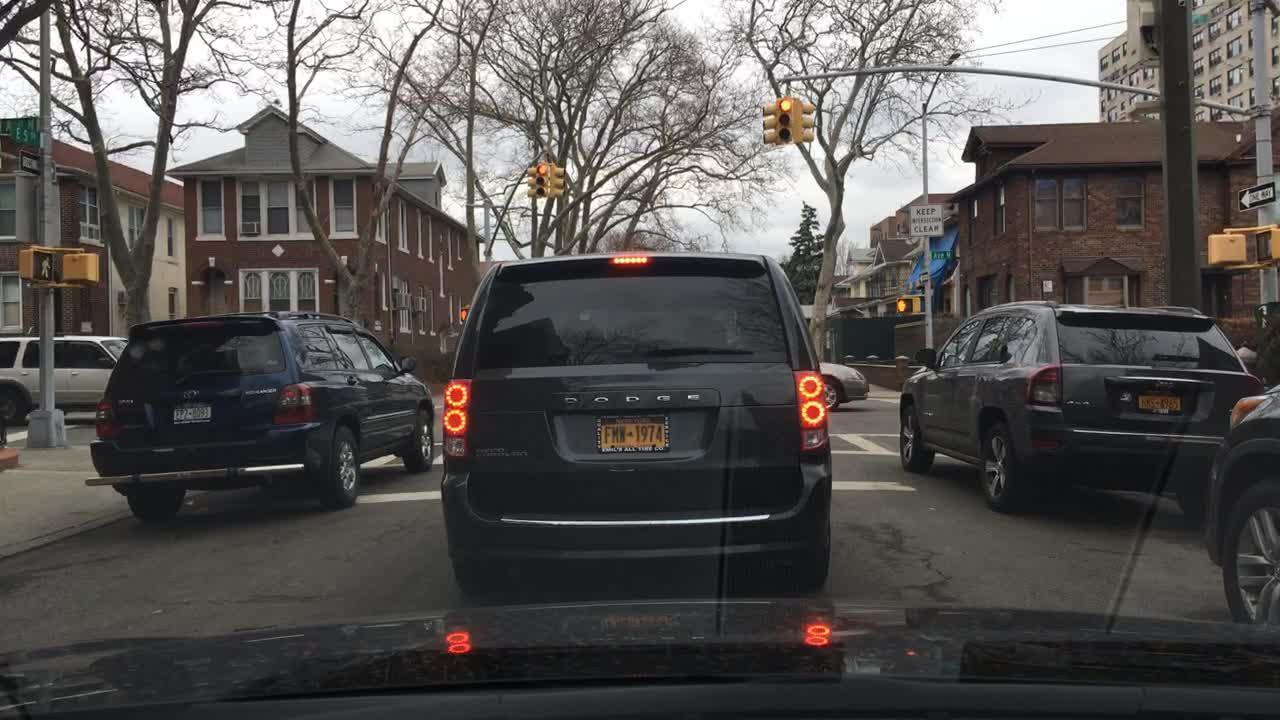Toyota: (182, 385, 204, 399)
dodge: (556, 389, 710, 412)
jeep: (1153, 378, 1180, 392)
